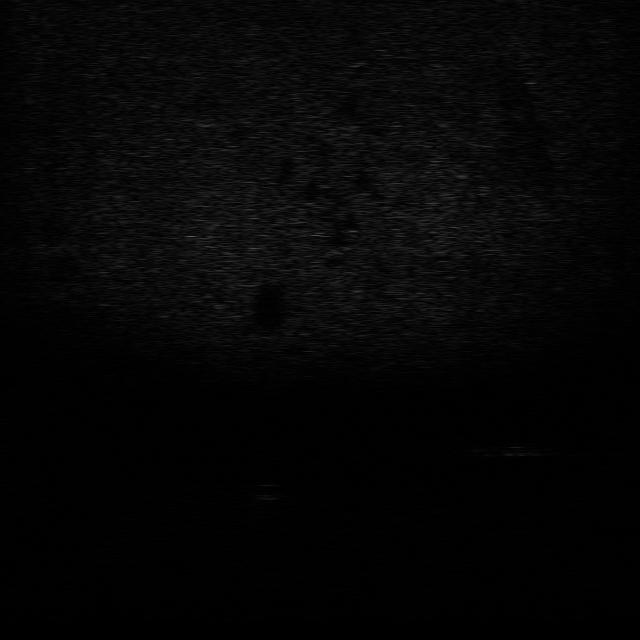ball: (246, 480, 292, 502)
human body: (466, 434, 566, 460)
